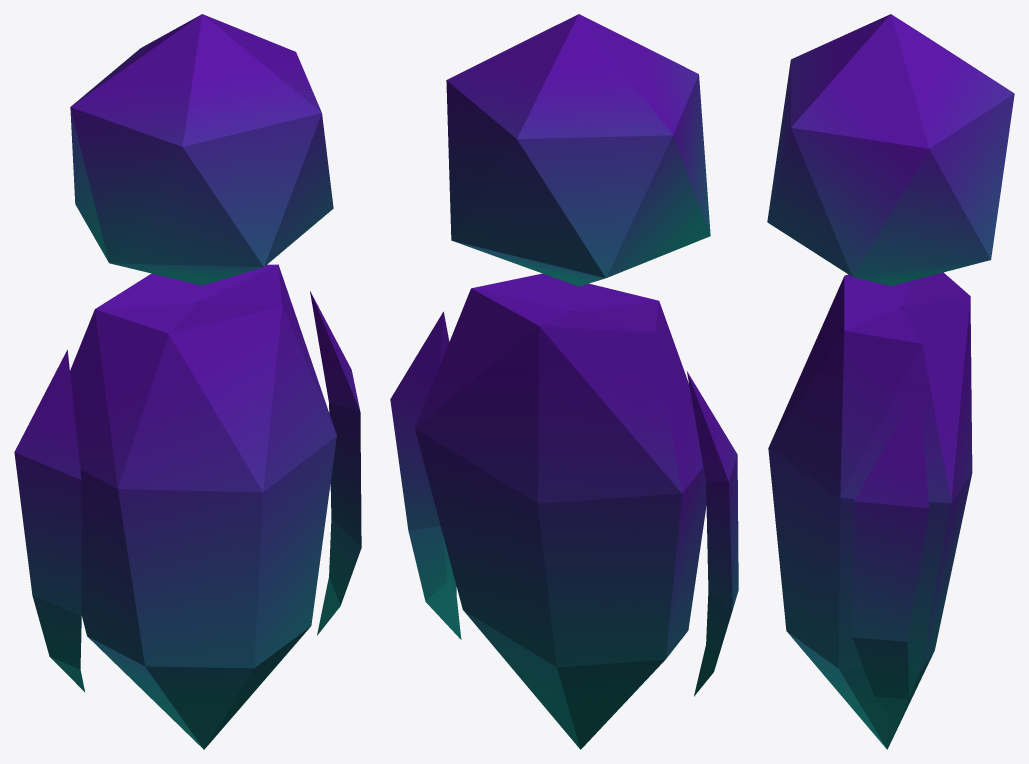
Rendered from ShortyLoad.fbx.
The picture shows the model from 3 angles, left to right: view 1: azimuth 30°, elevation 25°; view 2: azimuth 150°, elevation 25°; view 3: azimuth 270°, elevation 25°; orthographic projection.
Visible parts, largest first — view 1: Icosphere; view 2: Icosphere; view 3: Icosphere.
Boxes of the visible parts, <box> form: Icosphere: <box>14,14,361,749</box>; Icosphere: <box>390,14,738,749</box>; Icosphere: <box>767,14,1014,749</box>.
Bounding box in the file's own units: 0.8044 × 1.67 × 0.5102.
